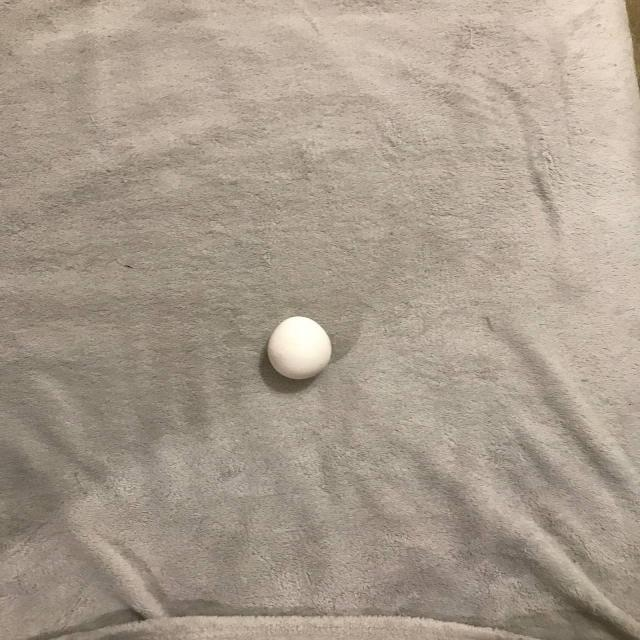egg: (267, 315, 333, 379)
